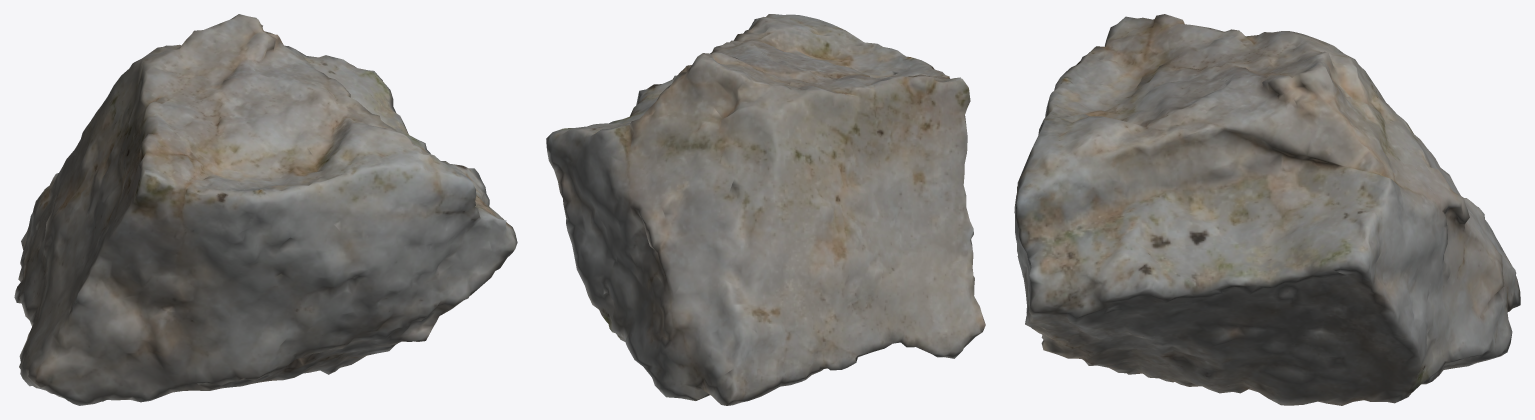
The model's file is stone_e.gltf.
The picture shows the model from 3 angles, left to right: view 1: azimuth 30°, elevation 25°; view 2: azimuth 150°, elevation 25°; view 3: azimuth 270°, elevation 25°; orthographic projection. The views are drawn at different scales.
Parts seen in each view (by area): view 1: namaqualand_stones_01_e; view 2: namaqualand_stones_01_e; view 3: namaqualand_stones_01_e.
Part boxes in pixels (x1,y1,x2,y2): namaqualand_stones_01_e: (14, 14, 517, 405); namaqualand_stones_01_e: (546, 14, 985, 405); namaqualand_stones_01_e: (1014, 14, 1520, 405).
Size of the model in its own units: 0.1109 by 0.0767 by 0.1121.
1 material, 1 textured.
